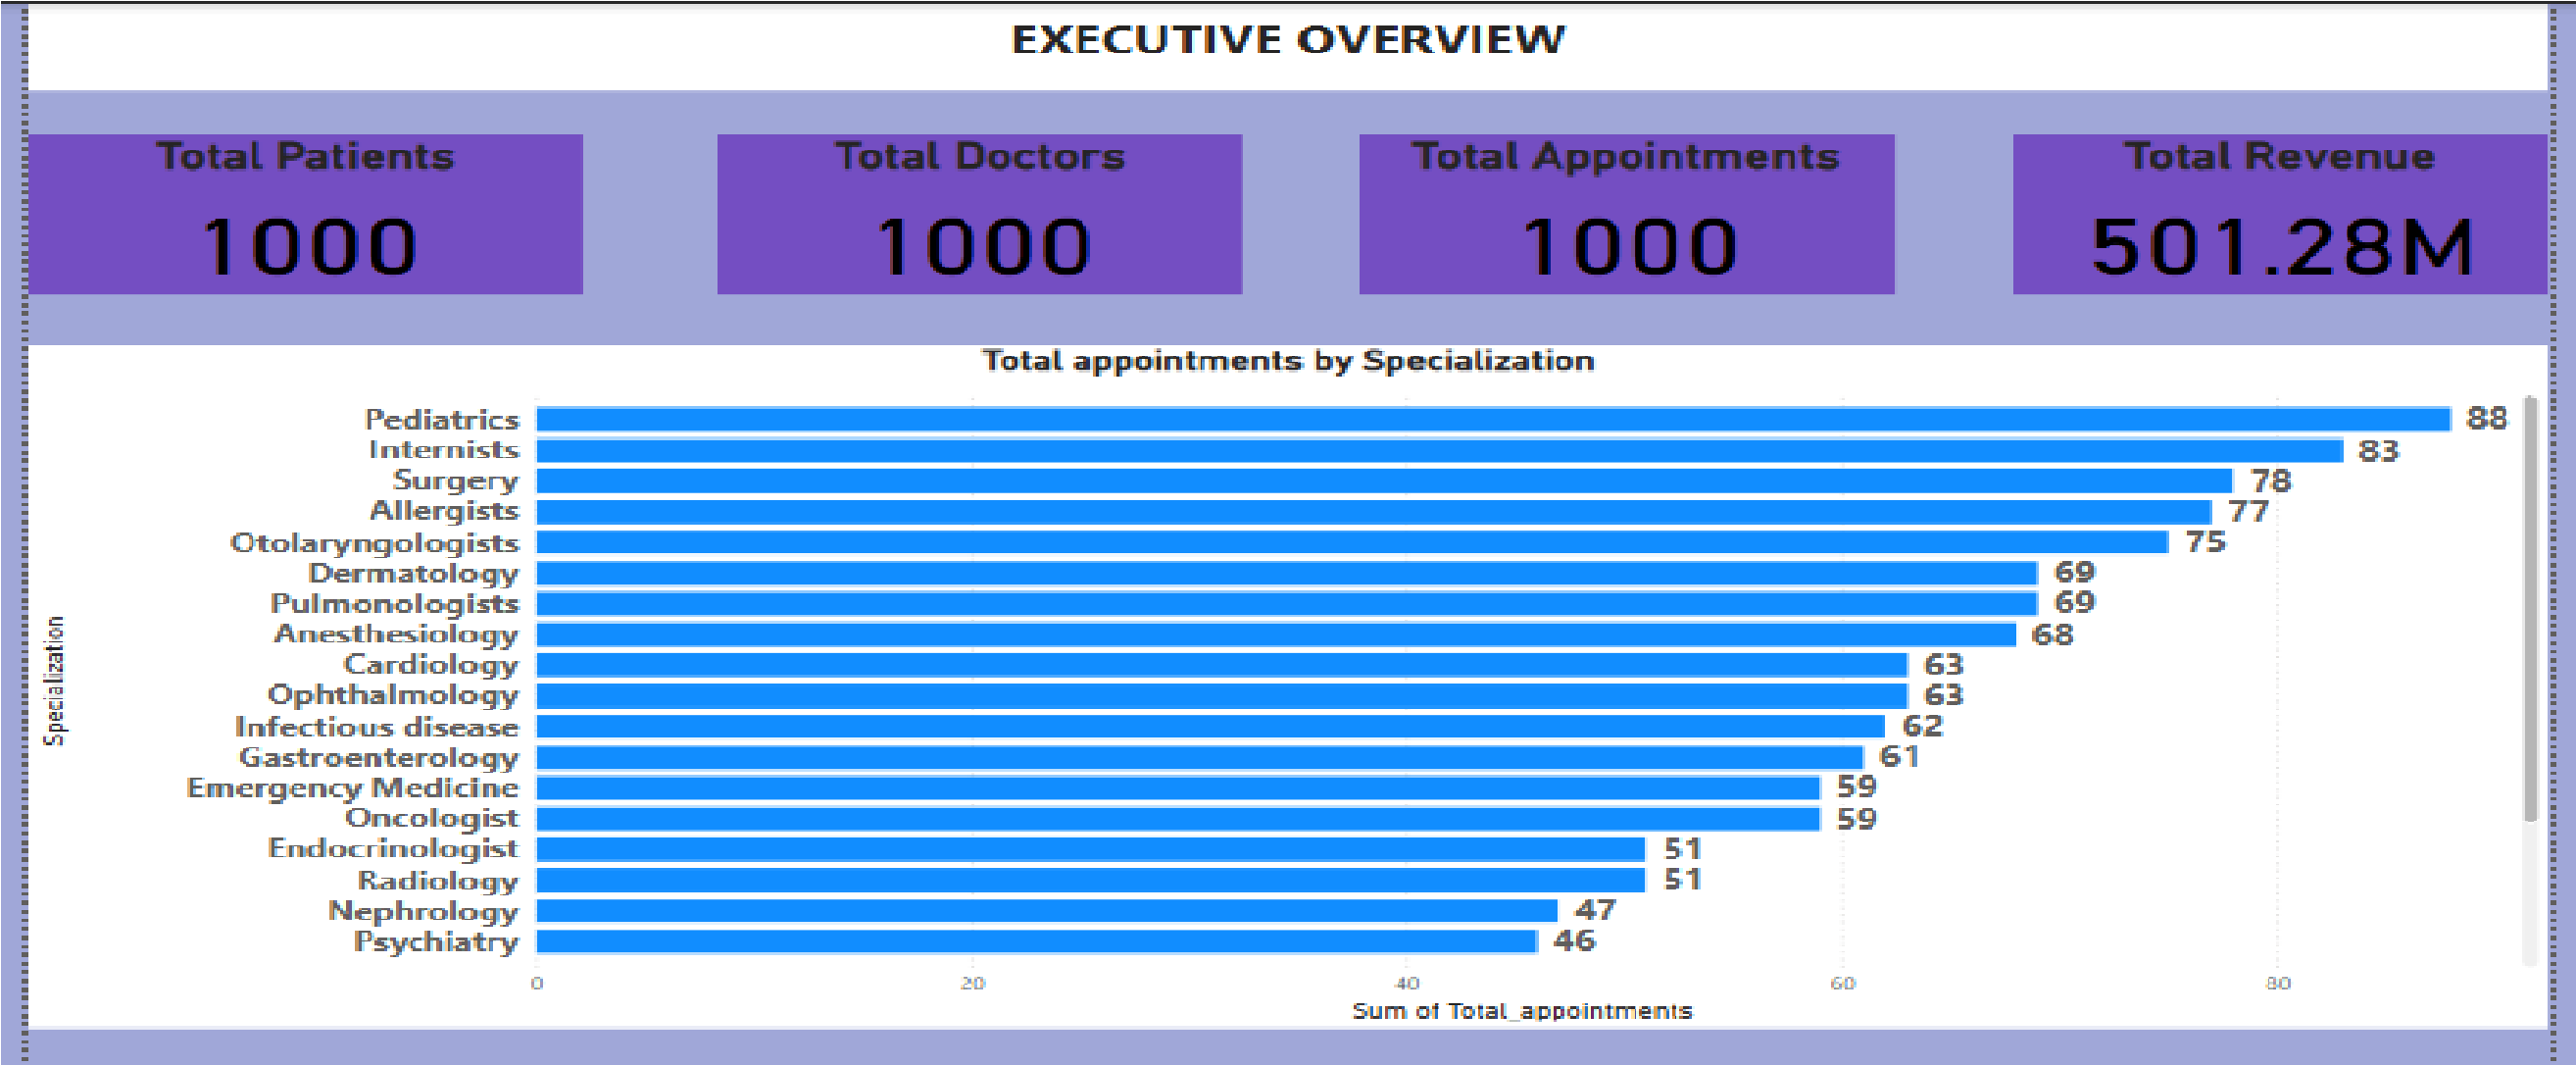

The page's visual inventory and layout, read from the dashboard file:
{"tool":"powerbi","page":{"name":"Executive Overview","canvas":[1280,720],"ordinal":4},"visuals":[{"type":"textbox","box":[0,0,1279.8,58.8],"z":0},{"type":"card","title":"Total  Patients","fields":{"Values":["Sum(hospital vw_hospital_dashboard.Total_patients)"]},"box":[0,88.2,282.1,108.7],"z":1000},{"type":"card","title":"Total Doctors","fields":{"Values":["Sum(hospital vw_hospital_dashboard.Total_doctors)"]},"box":[349.7,88.2,267.4,108.7],"z":2000},{"type":"card","title":"Total  Appointments","fields":{"Values":["Sum(hospital vw_hospital_dashboard.Total_appointments)"]},"box":[675.9,88.2,271.8,108.7],"z":3000},{"type":"card","title":"Total  Revenue","fields":{"Values":["Sum(hospital vw_hospital_dashboard.Total_revenue)"]},"box":[1008,88.2,271.8,108.7],"z":4000},{"type":"clusteredBarChart","title":"Total appointments by Specialization","fields":{"Category":["hospital vw_doctor_performance.Specialization"],"Y":["Sum(hospital vw_doctor_performance.Total_appointments)"]},"box":[0,230.7,1279.8,464.3],"z":5000}]}

Visuals, with their boxes on the page's 1280x720 design canvas (x1, y1, x2, y2). These are canvas units, not pixel positions in the 2576x1065 screenshot, which may show the page scaled, cropped or inside an application window:
textbox: BBox(0, 0, 1280, 59)
"Total  Patients" card: BBox(0, 88, 282, 197)
"Total Doctors" card: BBox(350, 88, 617, 197)
"Total  Appointments" card: BBox(676, 88, 948, 197)
"Total  Revenue" card: BBox(1008, 88, 1280, 197)
"Total appointments by Specialization" clusteredBarChart: BBox(0, 231, 1280, 695)
